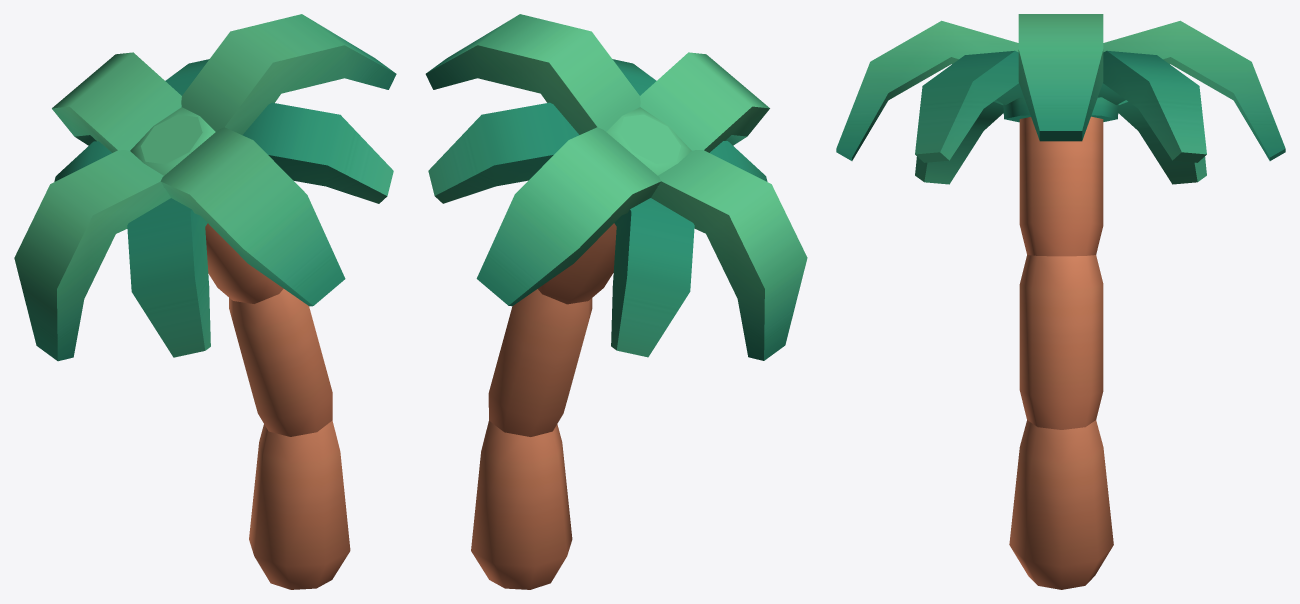
File: kenney-pirate-palm-detailed-bend.glb
3 views of the same model, side by side, from view 1: azimuth 30°, elevation 25°; view 2: azimuth 150°, elevation 25°; view 3: azimuth 270°, elevation 25° (orthographic).
Parts seen in each view (by area): view 1: palm-detailed-bend; view 2: palm-detailed-bend; view 3: palm-detailed-bend.
Part boxes in pixels (bbox=[...]): palm-detailed-bend: bbox=[14, 14, 396, 589]; palm-detailed-bend: bbox=[425, 14, 807, 589]; palm-detailed-bend: bbox=[836, 14, 1285, 589].
Size of the model in its own units: 2.88 by 4.25 by 3.22.
1 material, 1 textured.
